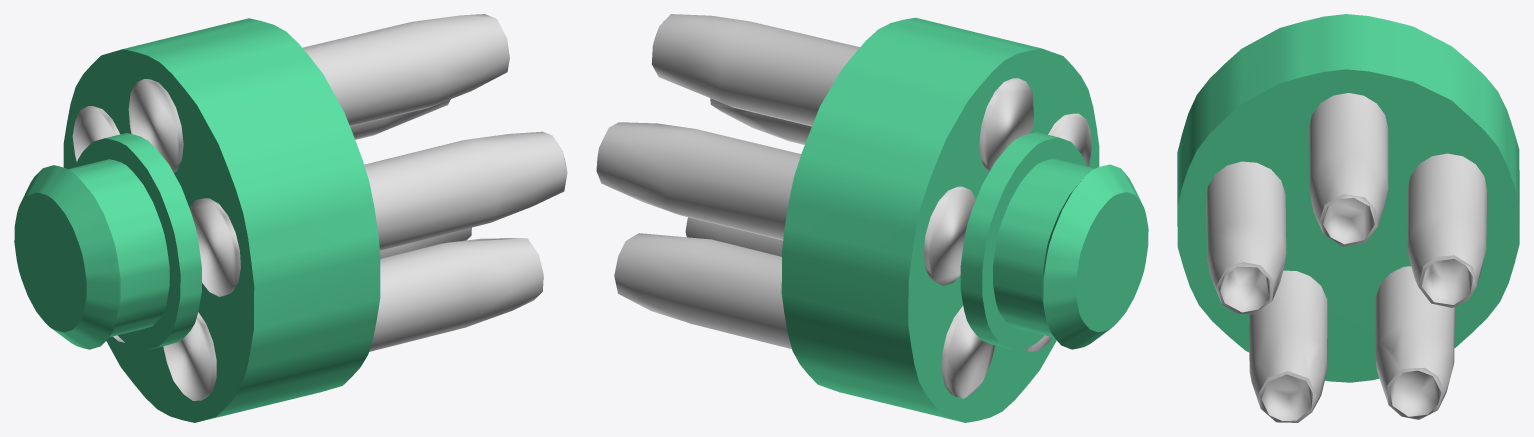
Rendered from SpeedLoader5.fbx.
3 views of the same model, side by side, from view 1: azimuth 30°, elevation 25°; view 2: azimuth 150°, elevation 25°; view 3: azimuth 270°, elevation 25° (orthographic). The views are drawn at different scales.
Parts seen in each view (by area): view 1: SpeedLoader5; view 2: SpeedLoader5; view 3: SpeedLoader5.
Part boxes in pixels (<box>): SpeedLoader5: <box>14,14,567,422</box>; SpeedLoader5: <box>596,14,1148,422</box>; SpeedLoader5: <box>1177,14,1519,422</box>.
Size of the model in its own units: 0.0501 by 0.0376 by 0.0372.
